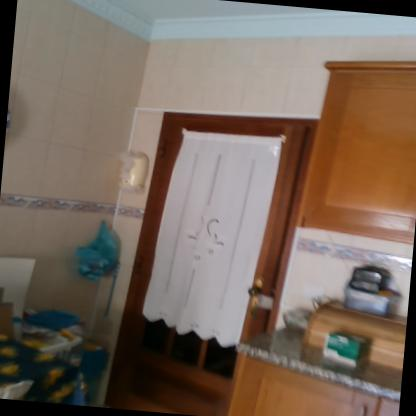closed: (126, 96, 320, 402)
